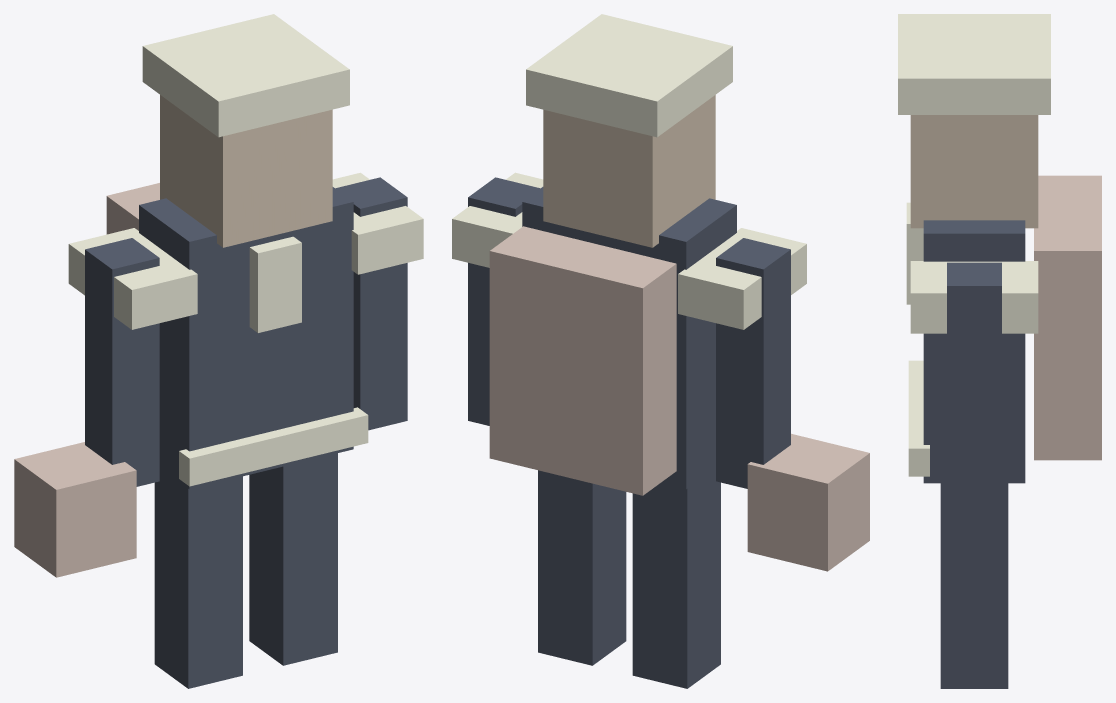
The model's file is 12_isolde_stormhush_specialist_at_upper.glb.
3 views of the same model, side by side, from view 1: azimuth 30°, elevation 25°; view 2: azimuth 150°, elevation 25°; view 3: azimuth 270°, elevation 25° (orthographic).
Parts seen in each view (by area): view 1: Isolde Stormhush, Specialist at Upper; view 2: Isolde Stormhush, Specialist at Upper; view 3: Isolde Stormhush, Specialist at Upper.
Boxes of the visible parts, left/top/right/bottom form: Isolde Stormhush, Specialist at Upper: left=14, top=14, right=423, bottom=688; Isolde Stormhush, Specialist at Upper: left=452, top=14, right=869, bottom=688; Isolde Stormhush, Specialist at Upper: left=898, top=14, right=1101, bottom=688.
Bounding box in the file's own units: 1.08 × 1.71 × 0.5203.
